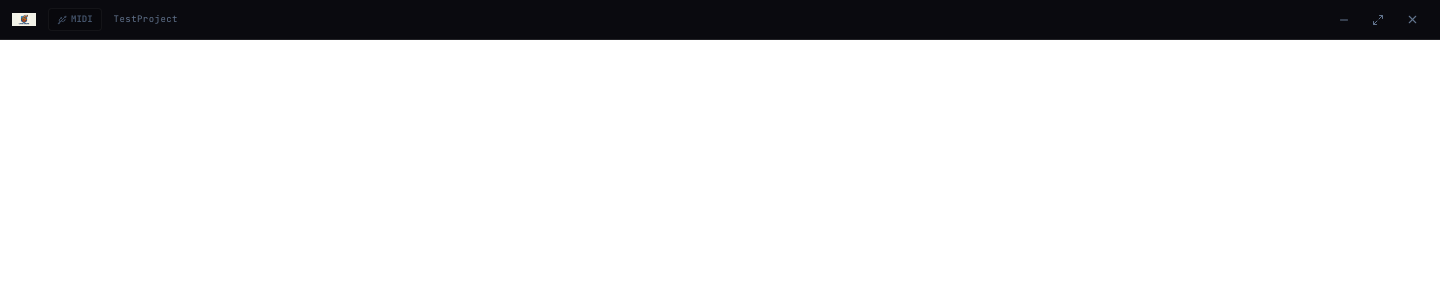
Test: DesktopTitlebar › clicking MIDI button opens the MIDI panel
Click the button "MIDI".
click(75, 20)  # box [48,8,102,31]
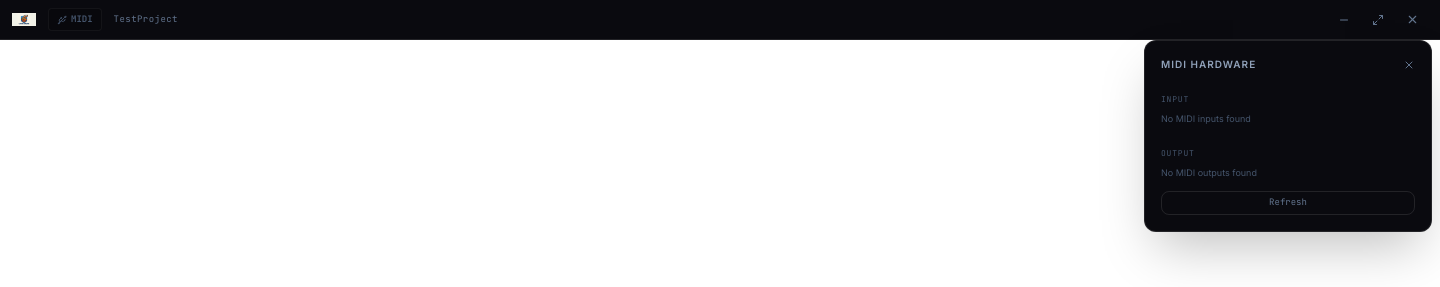
Expected: the heading "MIDI Hardware" is shown, [1161,57,1256,72]
Expected: the text "Input" is shown, [1161,94,1189,104]
Expected: the text "Output" is shown, [1161,148,1195,158]
